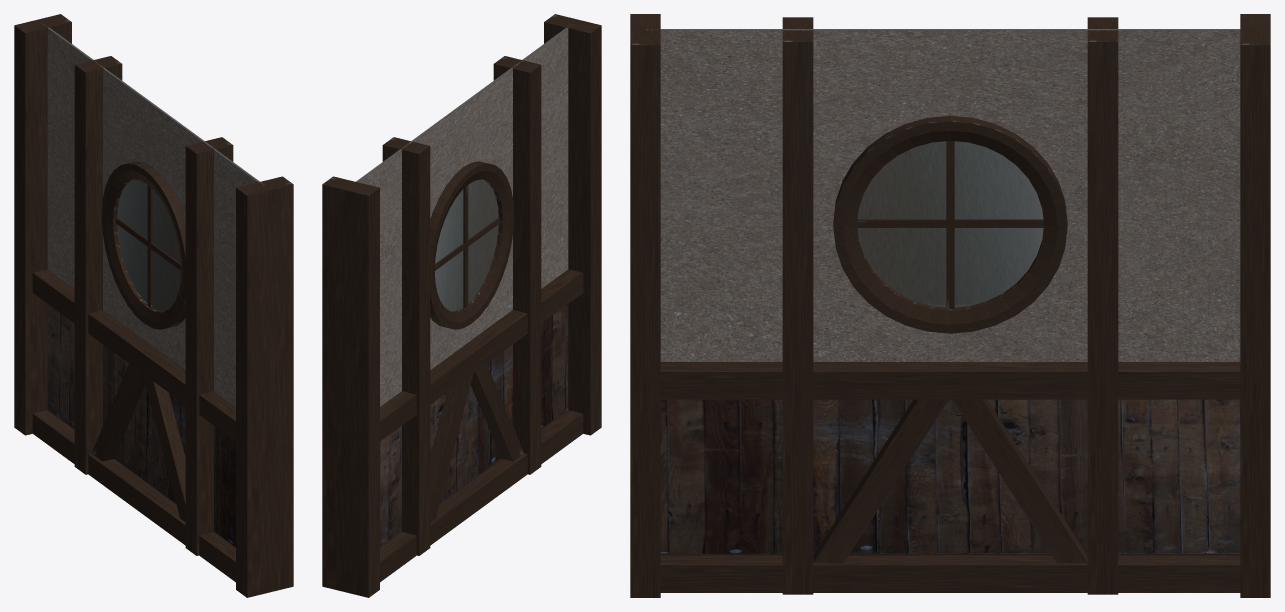
Rendered from OutdoorArchitecture_BasicWall02_Door02_BothEdges_BShortt.fbx.
The picture shows the model from 3 angles, left to right: view 1: azimuth 30°, elevation 25°; view 2: azimuth 150°, elevation 25°; view 3: azimuth 270°, elevation 25°; orthographic projection. The views are drawn at different scales.
Parts seen in each view (by area): view 1: OutdoorArchitecture_BasicWall02_Window02_BothtEdges_BShortt; view 2: OutdoorArchitecture_BasicWall02_Window02_BothtEdges_BShortt; view 3: OutdoorArchitecture_BasicWall02_Window02_BothtEdges_BShortt.
Boxes of the visible parts, bbox=[...] form: OutdoorArchitecture_BasicWall02_Window02_BothtEdges_BShortt: bbox=[14, 14, 293, 597]; OutdoorArchitecture_BasicWall02_Window02_BothtEdges_BShortt: bbox=[322, 14, 601, 597]; OutdoorArchitecture_BasicWall02_Window02_BothtEdges_BShortt: bbox=[630, 14, 1270, 597].
Bounding box in the file's own units: 36.37 × 300 × 315.
